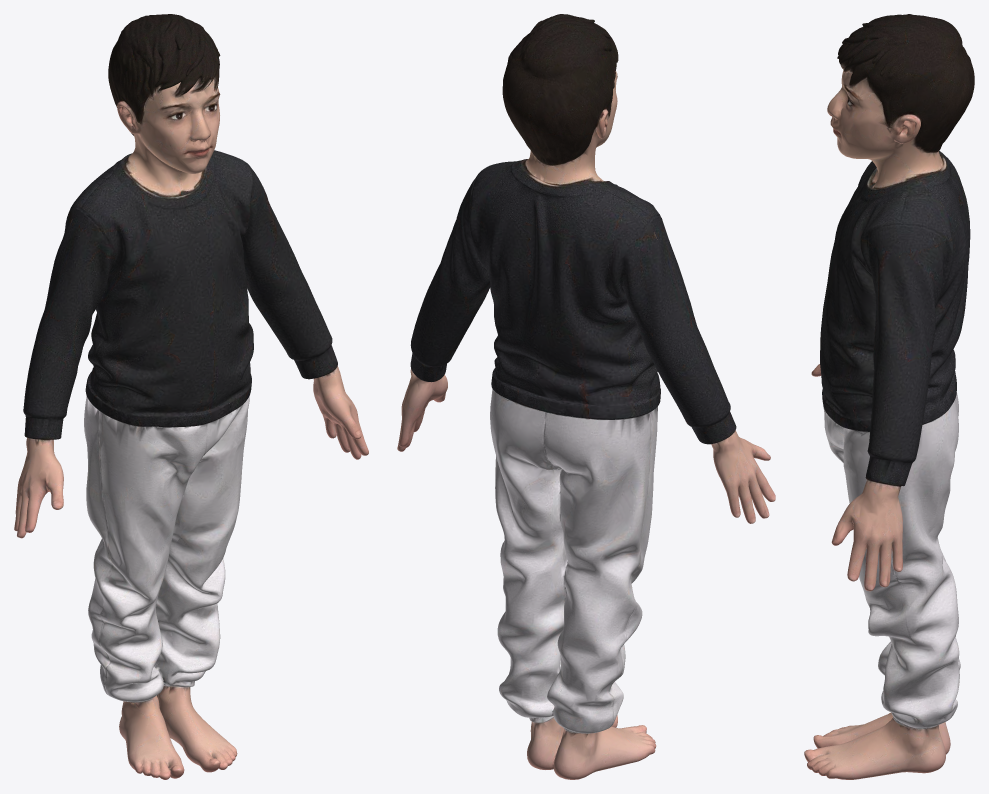
Rendered from shalev-alone.glb.
3 views of the same model, side by side, from view 1: azimuth 30°, elevation 25°; view 2: azimuth 150°, elevation 25°; view 3: azimuth 270°, elevation 25° (orthographic). The views are drawn at different scales.
Bounding box in the file's own units: 0.9665 × 1.9 × 0.3918.
Materials: 1 (1 with a texture image).
